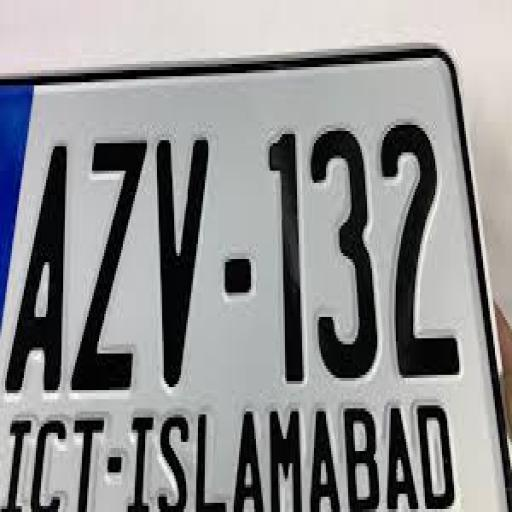1: (262, 122, 304, 392)
2: (378, 108, 468, 384)
3: (304, 116, 374, 390)
A: (7, 141, 69, 407)
V: (152, 128, 210, 388)
Z: (76, 129, 143, 397)
